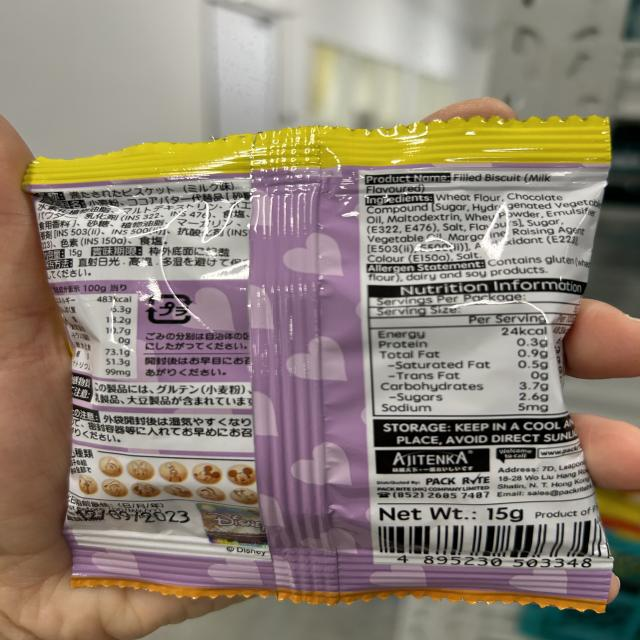object_name: (51, 159, 561, 598)
